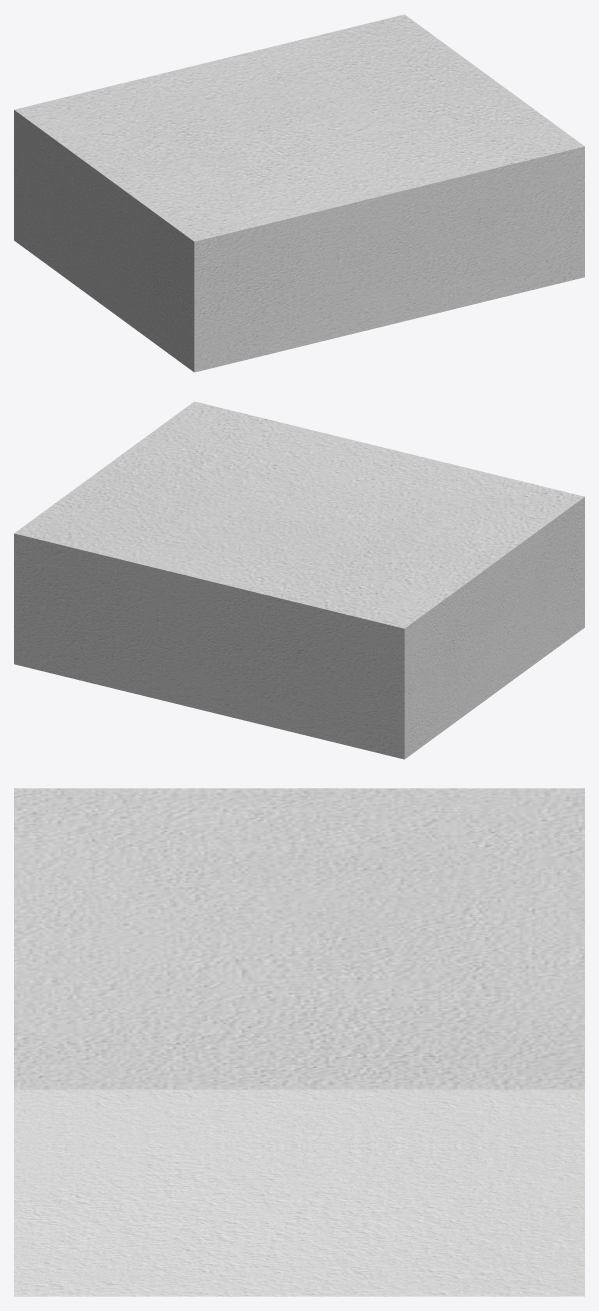
Rendered from Fake.glb.
The picture shows the model from 3 angles, top to bottom: view 1: azimuth 30°, elevation 25°; view 2: azimuth 150°, elevation 25°; view 3: azimuth 270°, elevation 25°; orthographic projection. The views are drawn at different scales.
Parts seen in each view (by area): view 1: ceiling, frontWall, leftWall; view 2: ceiling, backWall, leftWall; view 3: ceiling, floor.
Part boxes in pixels (x1,y1,x2,y2): ceiling: (14,14,584,241); frontWall: (194,146,584,372); leftWall: (14,110,194,371); ceiling: (14,401,584,628); backWall: (14,533,404,759); leftWall: (404,497,584,758); ceiling: (14,788,584,1089); floor: (14,1089,584,1296).
Size of the model in its own units: 7 by 2.24 by 5.6.
Materials: 2 (2 with a texture image).
